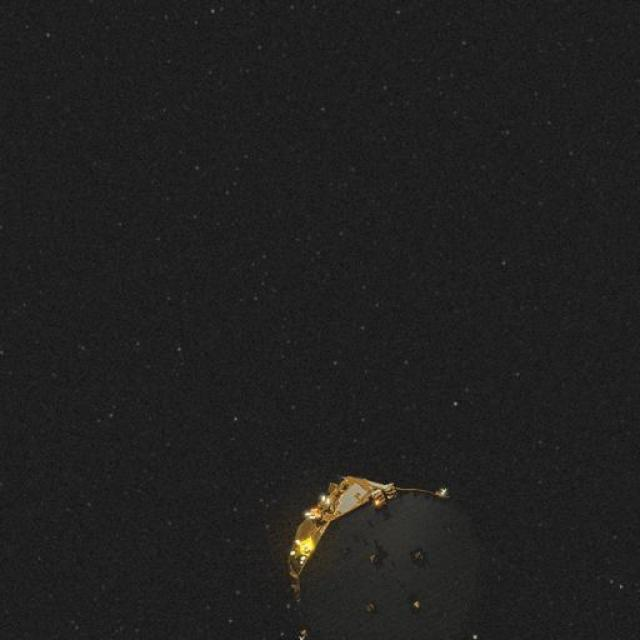lisa_pathfinder: (262, 425, 498, 640)
